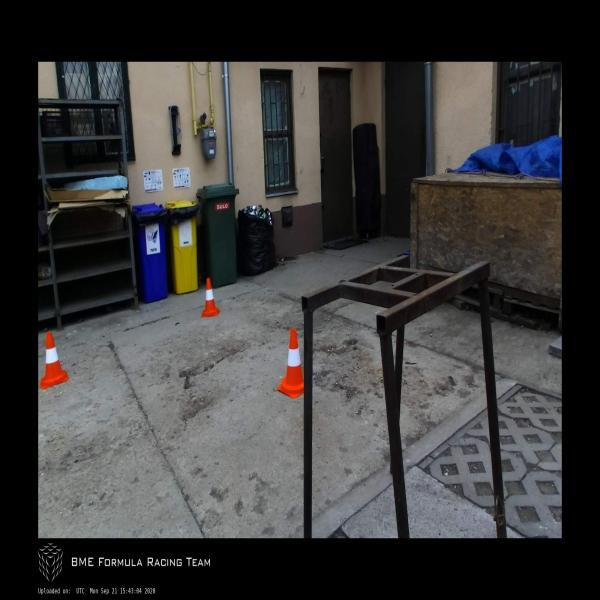orange_cone: (276, 328, 305, 399), (40, 332, 69, 388), (201, 277, 220, 318)
